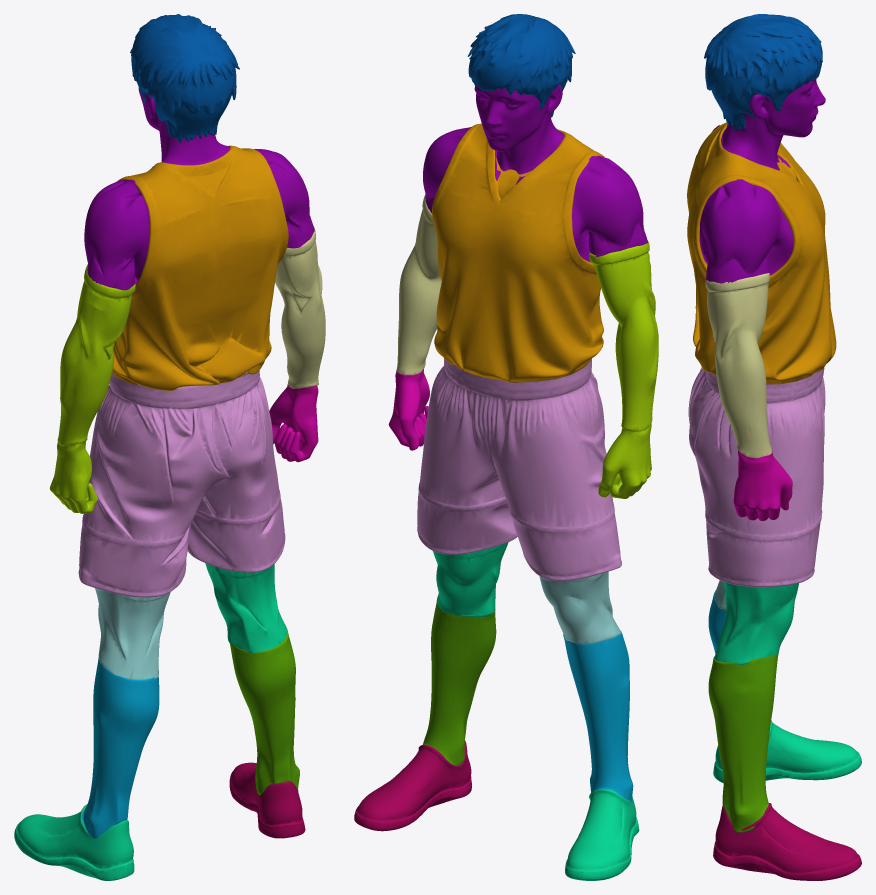
Rendered from model-parts.glb.
The picture shows the model from 3 angles, left to right: view 1: azimuth 30°, elevation 25°; view 2: azimuth 150°, elevation 25°; view 3: azimuth 270°, elevation 25°; orthographic projection. The views are drawn at different scales.
Parts seen in each view (by area): view 1: part_10, part_0, part_3, part_1, part_8, part_6, part_5, part_9, part_2, part_11, part_7, part_4; view 2: part_10, part_0, part_3, part_6, part_1, part_5, part_9, part_8, part_7, part_2, part_11, part_4; view 3: part_10, part_0, part_3, part_8, part_1, part_9, part_2, part_7, part_4, part_5.
Part boxes in pixels (bbox=[...]): part_10: bbox=[78, 370, 285, 597]; part_0: bbox=[112, 145, 288, 390]; part_3: bbox=[84, 87, 314, 290]; part_1: bbox=[14, 563, 286, 880]; part_8: bbox=[130, 14, 239, 143]; part_6: bbox=[50, 264, 135, 513]; part_5: bbox=[82, 657, 159, 838]; part_9: bbox=[229, 627, 299, 795]; part_2: bbox=[275, 229, 325, 388]; part_11: bbox=[95, 588, 170, 679]; part_7: bbox=[229, 762, 305, 838]; part_4: bbox=[269, 384, 318, 462]; part_10: bbox=[417, 358, 621, 580]; part_0: bbox=[432, 123, 605, 382]; part_3: bbox=[423, 85, 648, 262]; part_6: bbox=[589, 242, 658, 498]; part_1: bbox=[433, 542, 639, 880]; part_5: bbox=[563, 631, 633, 801]; part_9: bbox=[423, 598, 496, 765]; part_8: bbox=[467, 14, 575, 117]; part_7: bbox=[354, 740, 471, 831]; part_2: bbox=[396, 194, 441, 374]; part_11: bbox=[539, 571, 621, 644]; part_4: bbox=[388, 369, 429, 450]; part_10: bbox=[688, 367, 825, 587]; part_0: bbox=[687, 122, 836, 384]; part_3: bbox=[699, 78, 825, 283]; part_8: bbox=[704, 14, 822, 130]; part_1: bbox=[713, 582, 861, 783]; part_9: bbox=[708, 653, 778, 832]; part_2: bbox=[705, 273, 772, 458]; part_7: bbox=[713, 803, 861, 880]; part_4: bbox=[733, 450, 792, 521]; part_5: bbox=[708, 590, 725, 653].
Bounding box in the file's own units: 0.3837 × 1.14 × 0.2253.
